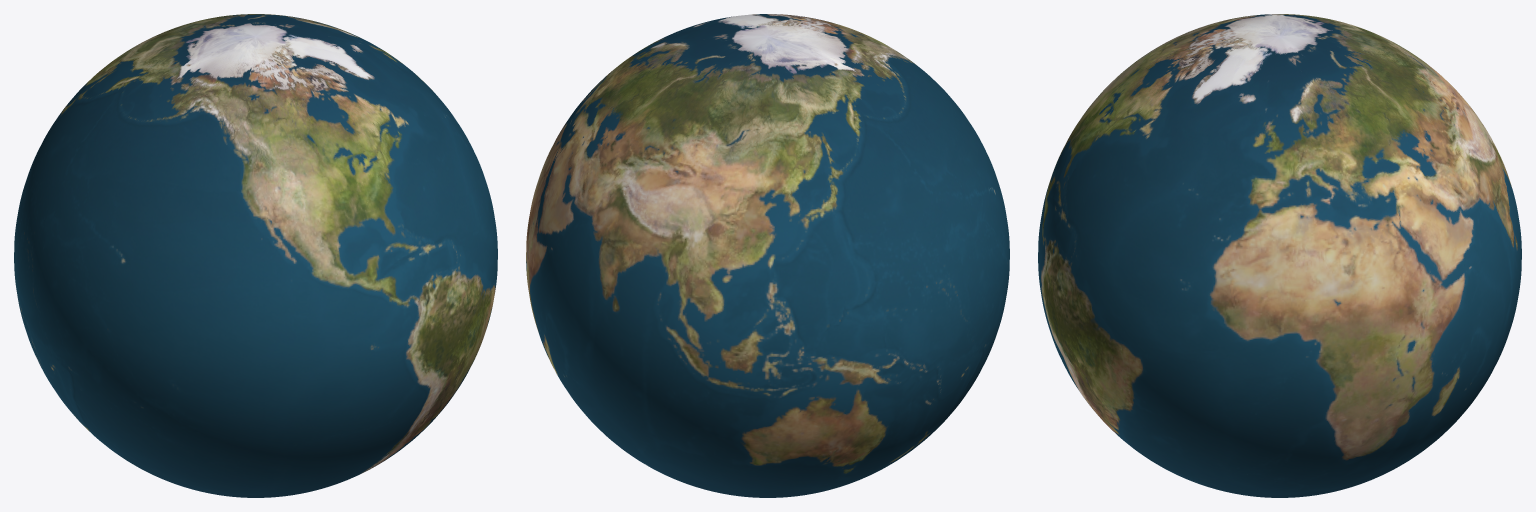
The model's file is earth.obj.
The picture shows the model from 3 angles, left to right: view 1: azimuth 30°, elevation 25°; view 2: azimuth 150°, elevation 25°; view 3: azimuth 270°, elevation 25°; orthographic projection.
Parts seen in each view (by area): view 1: Sphere_Sphere.001; view 2: Sphere_Sphere.001; view 3: Sphere_Sphere.001.
Part boxes in pixels (box(x1,y1,x2,y2)): Sphere_Sphere.001: box(14, 14, 497, 497); Sphere_Sphere.001: box(526, 14, 1009, 497); Sphere_Sphere.001: box(1038, 14, 1521, 497).
Bounding box in the file's own units: 2 × 2 × 2.
1 material, 1 textured.
